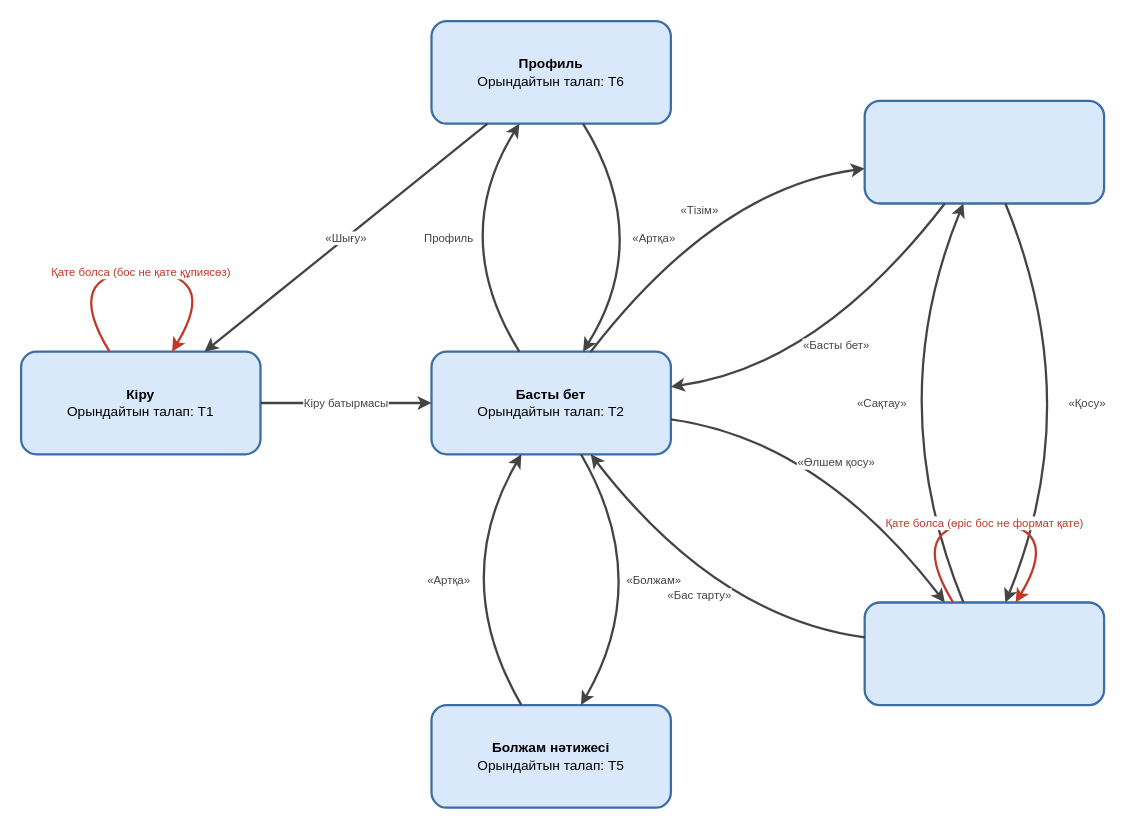
This 1125x828 diagram has some shape labels left out. Each missing label, with the centre of its shape:
Өлшем қосу формасы Орындайтын талап: Т4: (984,653)
Өлшеулер тізімі Орындайтын талап: Т3: (984,151)
